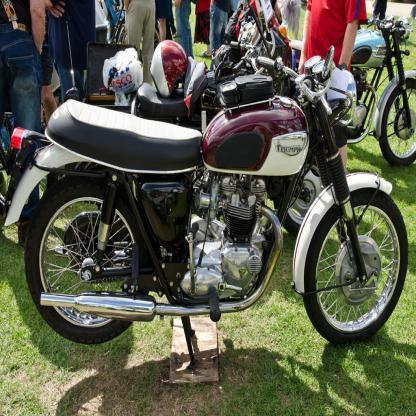motorcycle: (4, 47, 408, 369), (320, 6, 416, 166)
